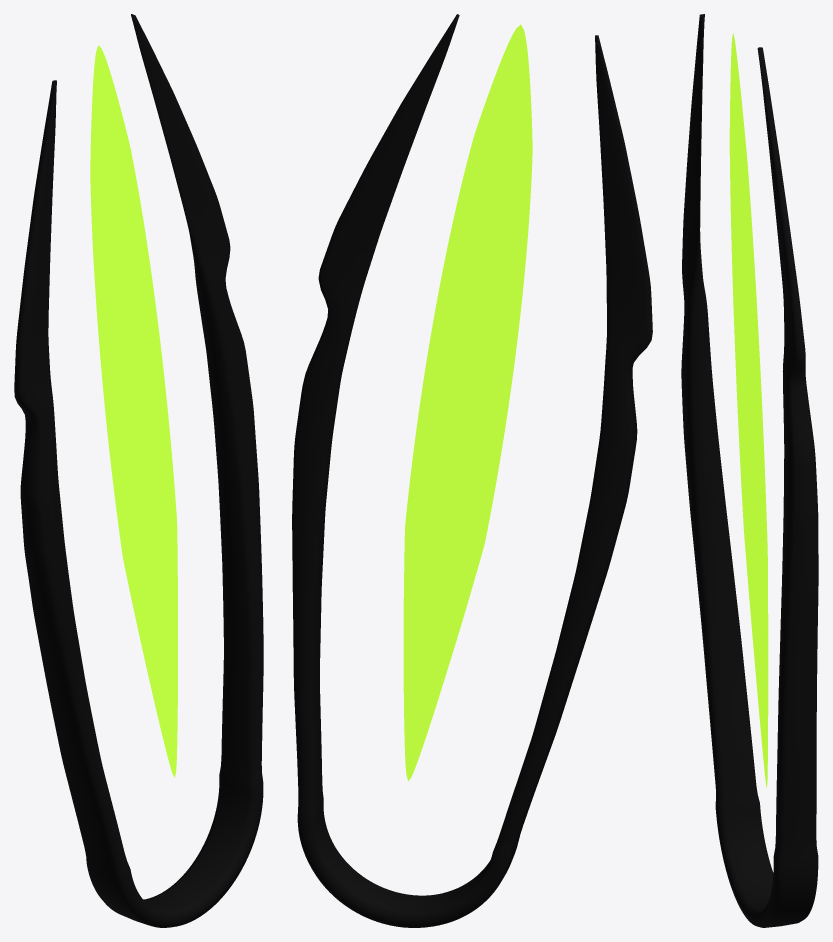
The picture shows the model from 3 angles, left to right: view 1: azimuth 30°, elevation 25°; view 2: azimuth 150°, elevation 25°; view 3: azimuth 270°, elevation 25°; orthographic projection. The views are drawn at different scales.
Parts seen in each view (by area): view 1: steel, hikari; view 2: steel, hikari; view 3: steel, hikari.
Boxes of the visible parts, x1=… form: steel: x1=14, y1=14, x2=263, y2=927; hikari: x1=90, y1=45, x2=177, y2=777; steel: x1=292, y1=14, x2=652, y2=927; hikari: x1=403, y1=24, x2=532, y2=780; steel: x1=681, y1=14, x2=818, y2=927; hikari: x1=729, y1=33, x2=768, y2=788.
Size of the model in its own units: 0.745 by 2.18 by 0.3184.
